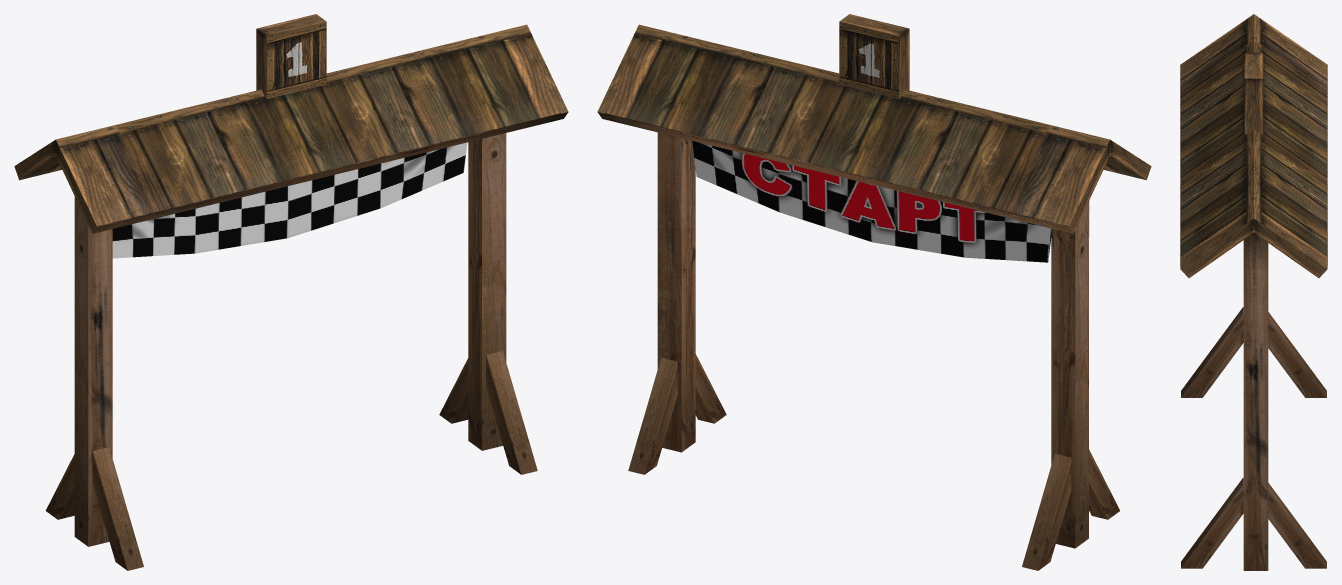
Rendered from start1.glb.
3 views of the same model, side by side, from view 1: azimuth 30°, elevation 25°; view 2: azimuth 150°, elevation 25°; view 3: azimuth 270°, elevation 25° (orthographic). The views are drawn at different scales.
Parts seen in each view (by area): view 1: start1-col; view 2: start1-col; view 3: start1-col.
Boxes of the visible parts, x1,y1,x2,y2 form: start1-col: (14,14,568,570); start1-col: (597,14,1151,570); start1-col: (1180,14,1327,570).
Size of the model in its own units: 7.83 by 7.41 by 2.39.
1 material, 1 textured.
